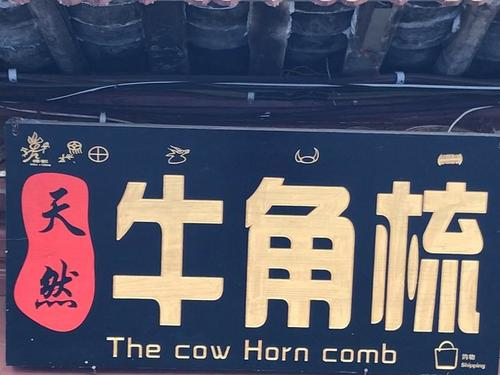chinese: (111, 176, 492, 338), (42, 186, 81, 315)
naxi: (20, 131, 112, 171), (159, 137, 201, 170), (285, 140, 328, 166), (431, 146, 472, 171)
